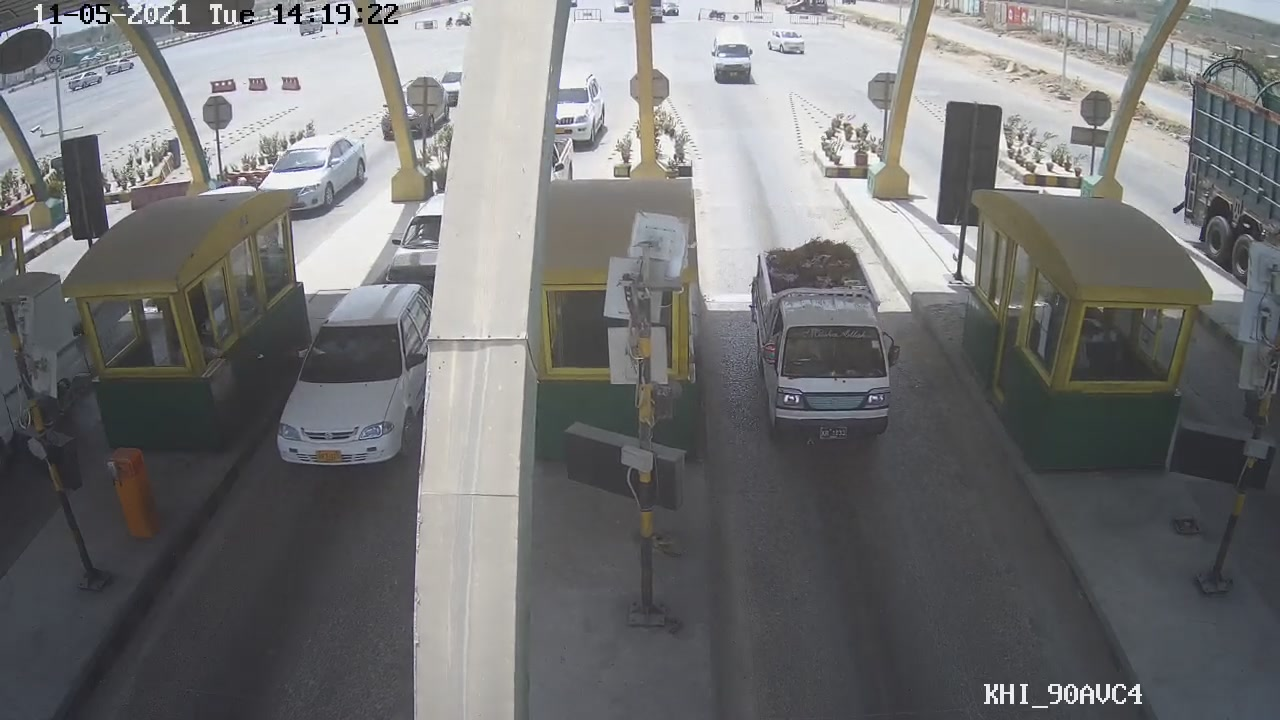F1: (747, 237, 898, 447)
